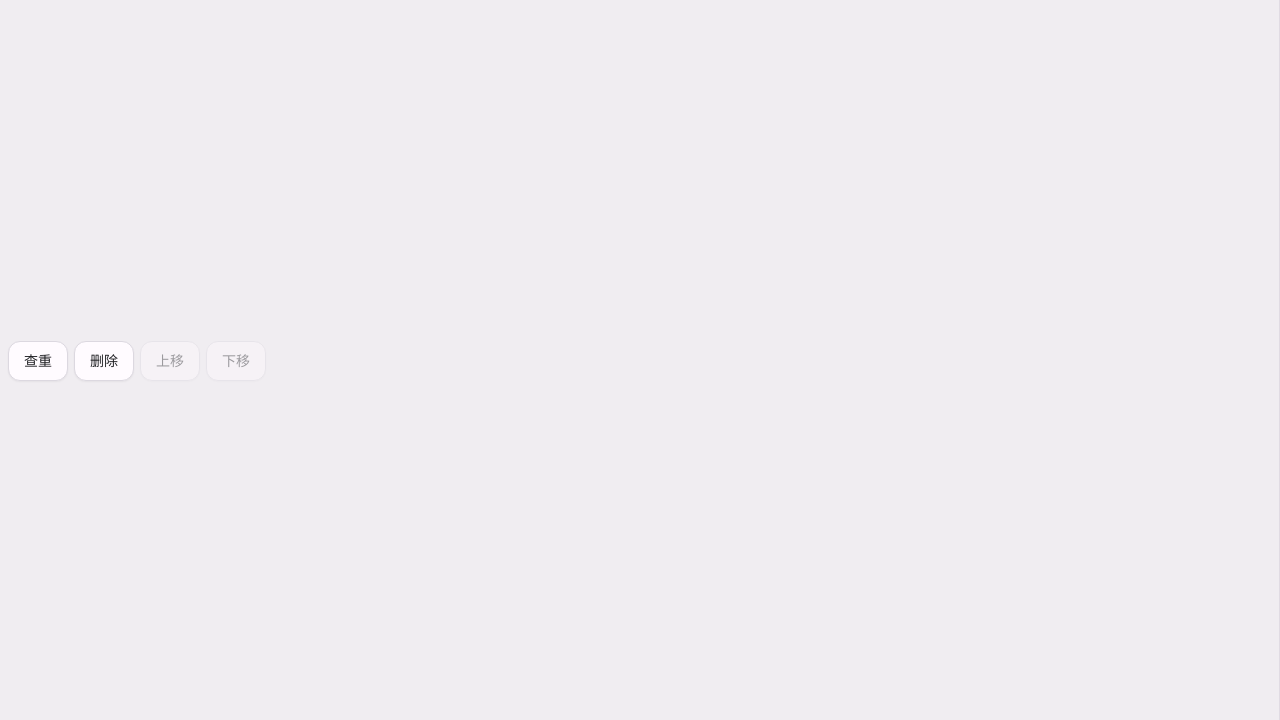
Test: ComposeWorkspace automatic composition and duplicate scope › shows check errors in the report and allows a retry
(page scrolled)
Click the button "查重" at coordinates (38, 361), box [8, 341, 68, 381]
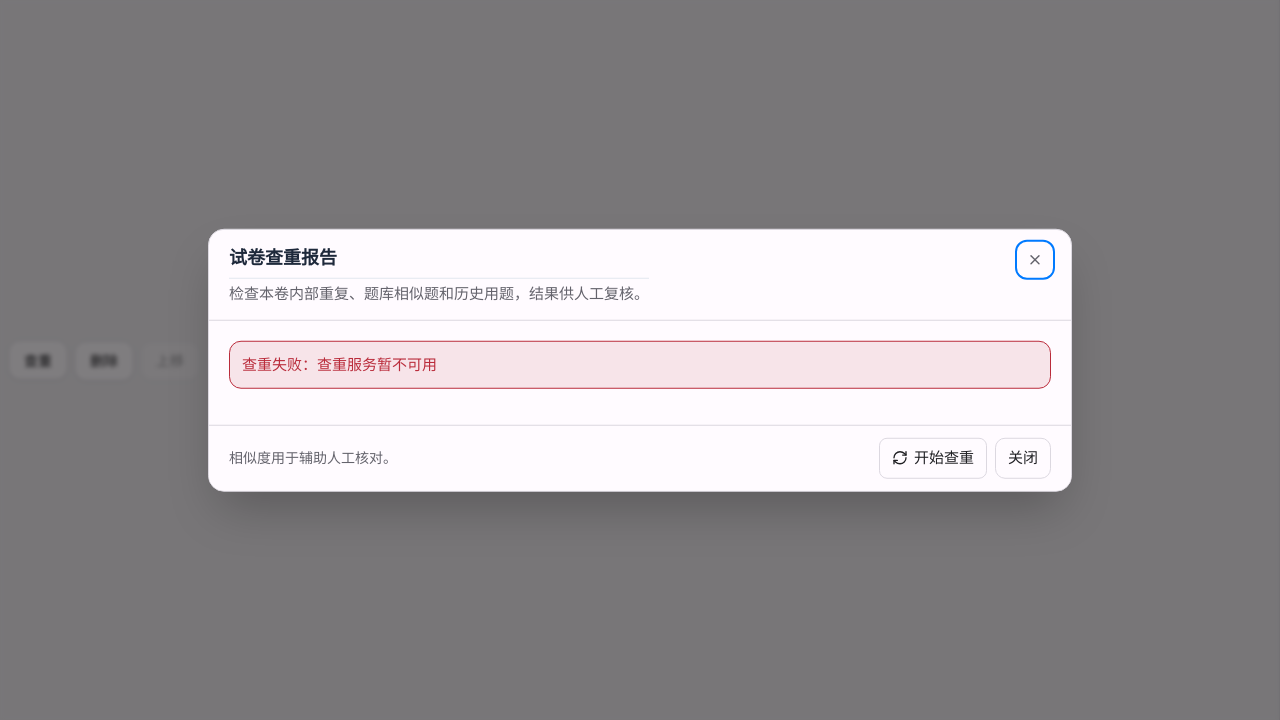
Now the message reads "查重失败：查重服务暂不可用", box [229, 340, 1051, 389]
Click the button "开始查重" at coordinates (933, 458), box [879, 438, 987, 478]
(page scrolled)
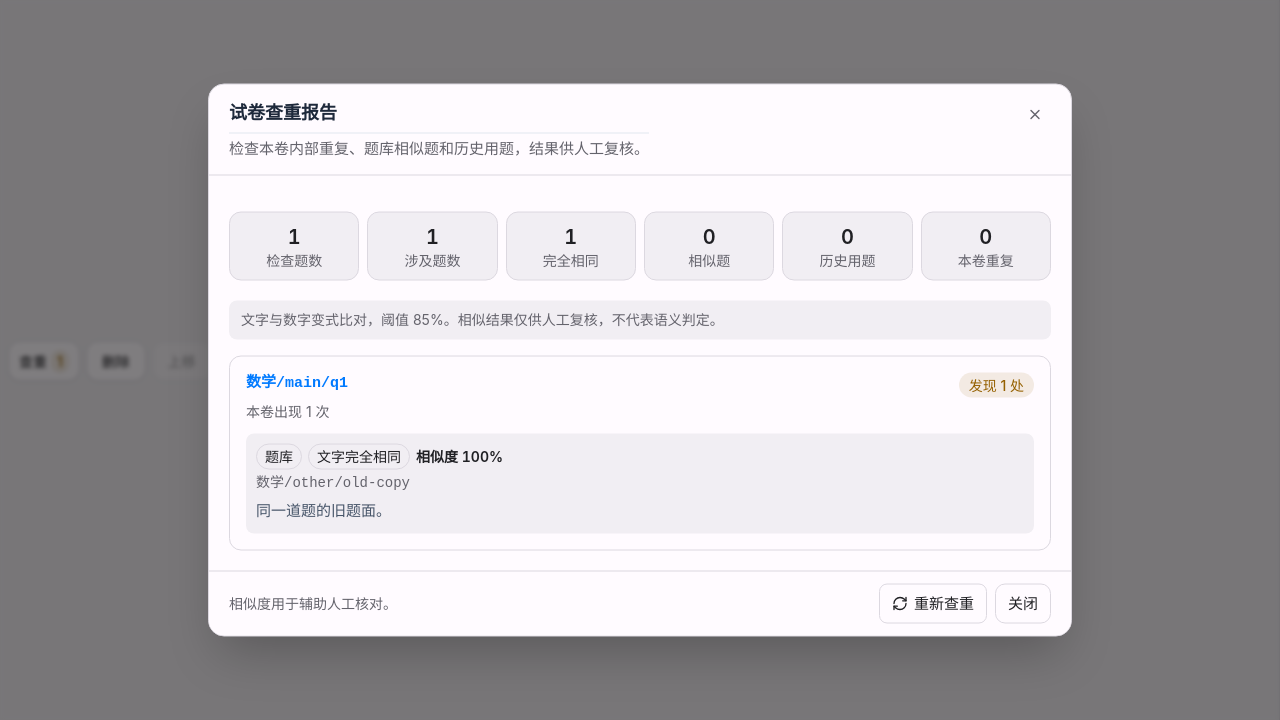
Now the text "数学/other/old-copy" is shown, box [256, 474, 410, 490]
